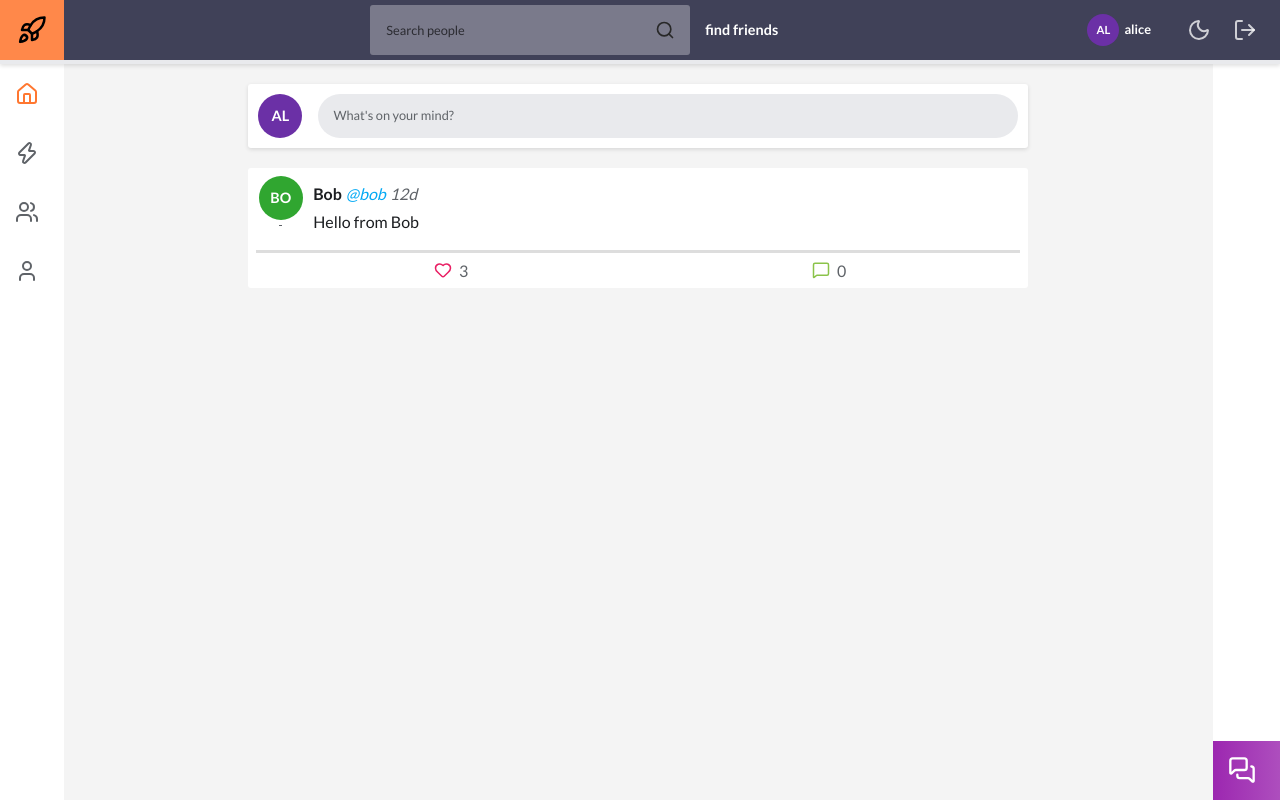
like › updates the card before the server answers and keeps the new state on success
The width and height of the screenshot is (1280, 800).
Click the button named "Like" at [449, 270], box [260,257,638,284]
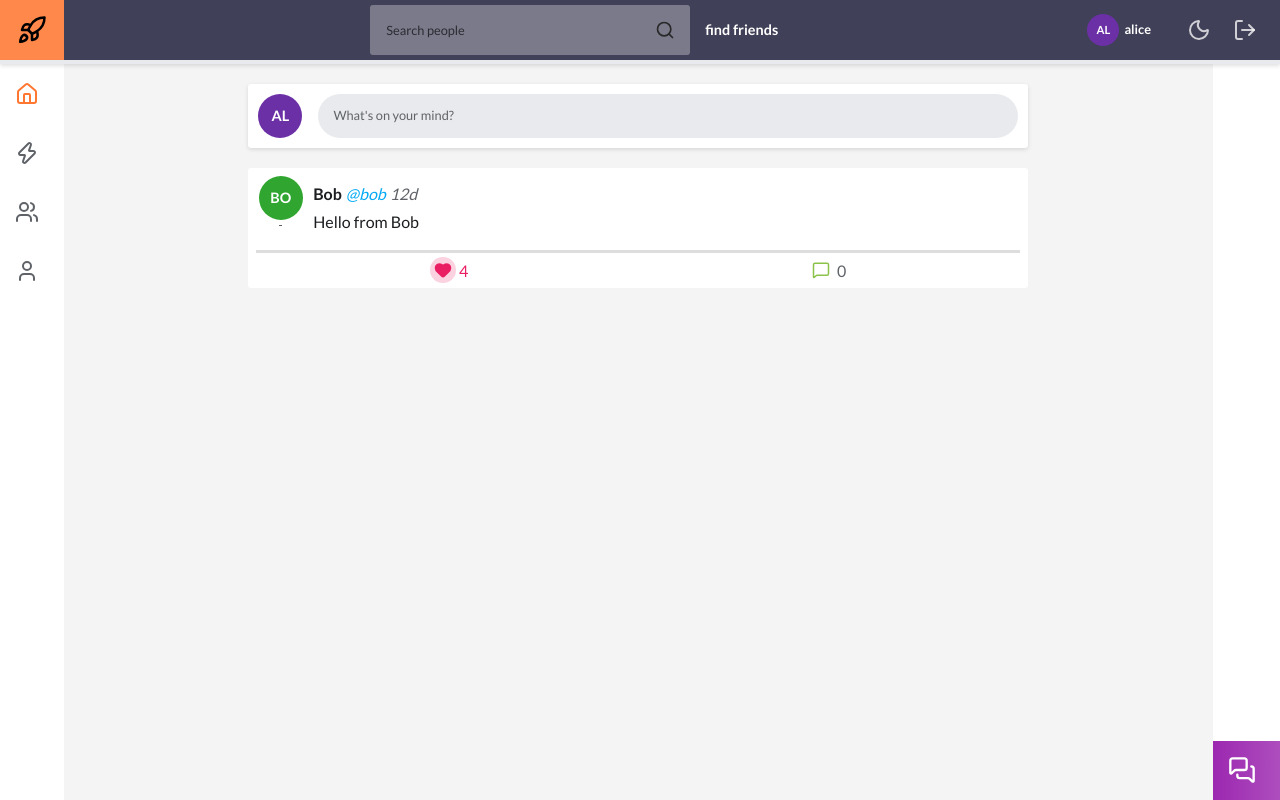
Now the button named "Like" reads "4", box [260,257,638,284]
